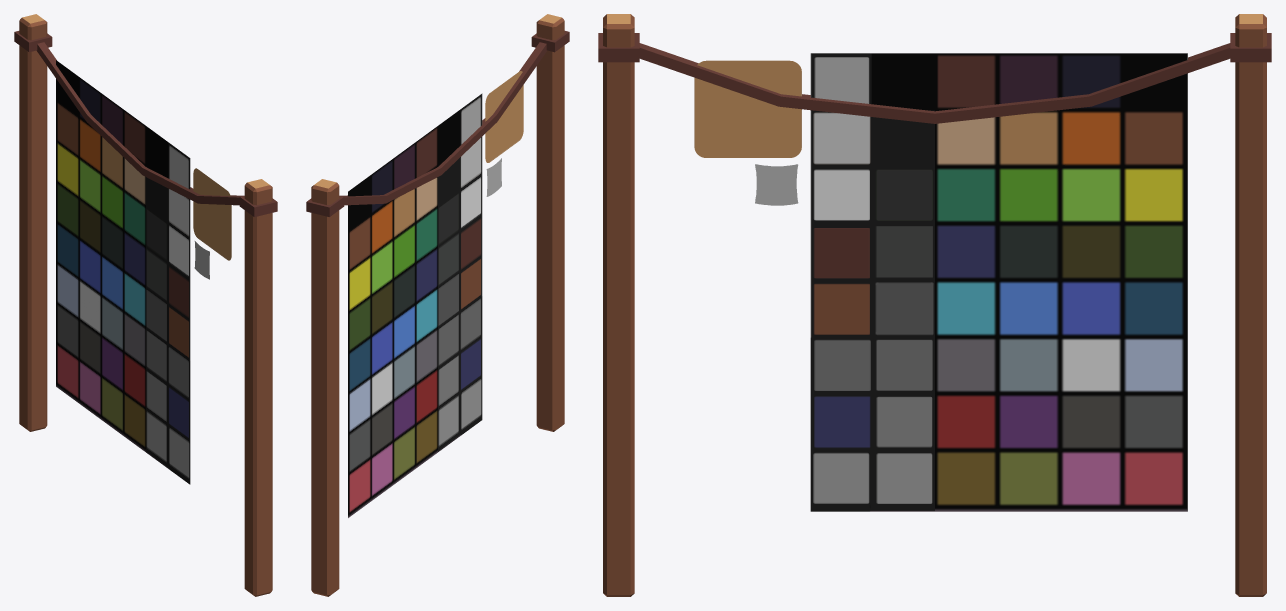
The model's file is Clothes line.fbx.
The picture shows the model from 3 angles, left to right: view 1: azimuth 30°, elevation 25°; view 2: azimuth 150°, elevation 25°; view 3: azimuth 270°, elevation 25°; orthographic projection. The views are drawn at different scales.
Parts seen in each view (by area): view 1: Fishnet, Clothes_line; view 2: Fishnet, Clothes_line; view 3: Fishnet, Clothes_line.
Part boxes in pixels (x1=…): Fishnet: x1=56, y1=60, x2=231, y2=484; Clothes_line: x1=14, y1=14, x2=277, y2=596; Fishnet: x1=348, y1=71, x2=523, y2=517; Clothes_line: x1=306, y1=14, x2=569, y2=596; Fishnet: x1=694, y1=53, x2=1187, y2=511; Clothes_line: x1=598, y1=14, x2=1271, y2=596.
Size of the model in its own units: 0.0594 by 1 by 1.07.
